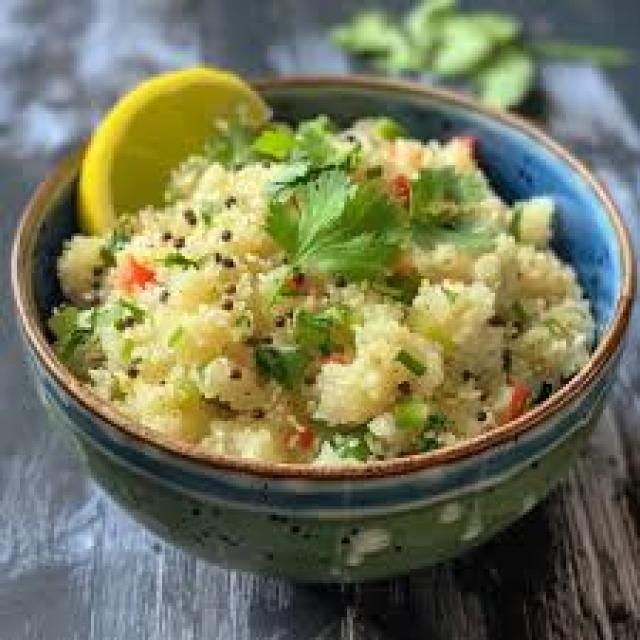UPMA: (48, 108, 594, 461)
